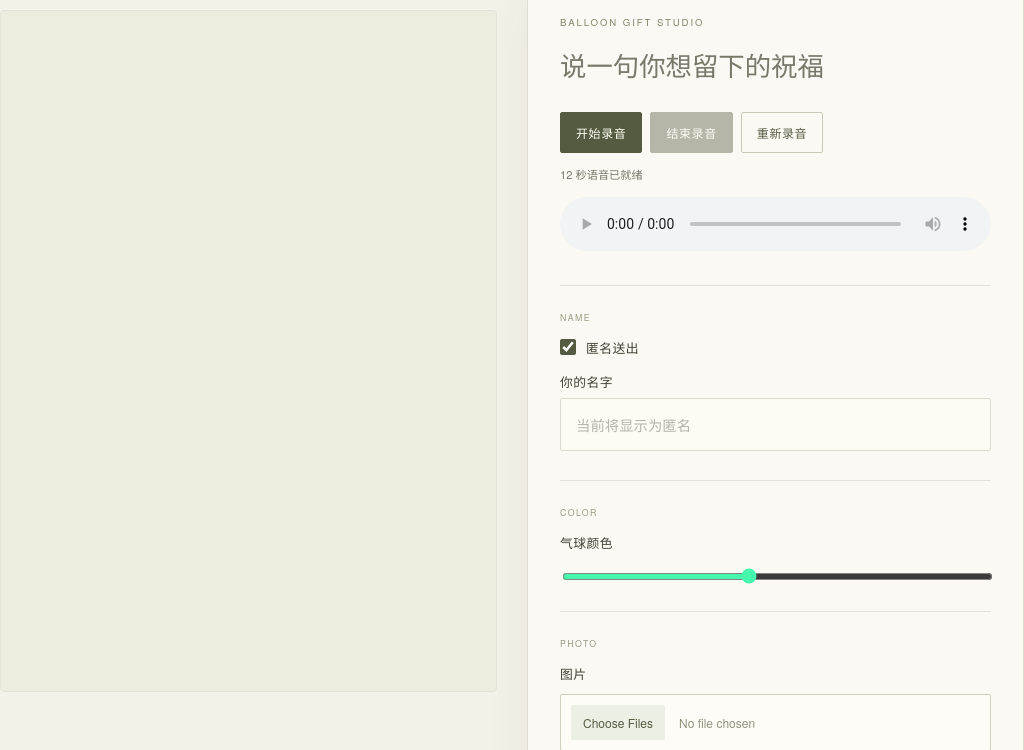
Scenario: GiverComposer › requires a name when anonymous delivery is turned off
This screenshot has width=1024, height=750.
What coordinates should you click on to do the following:
click the checkbox labelled "匿名送出"
I would click on:
 (568, 347)
Its box is x1=560 y1=339 x2=576 y2=355.
(page scrolled)
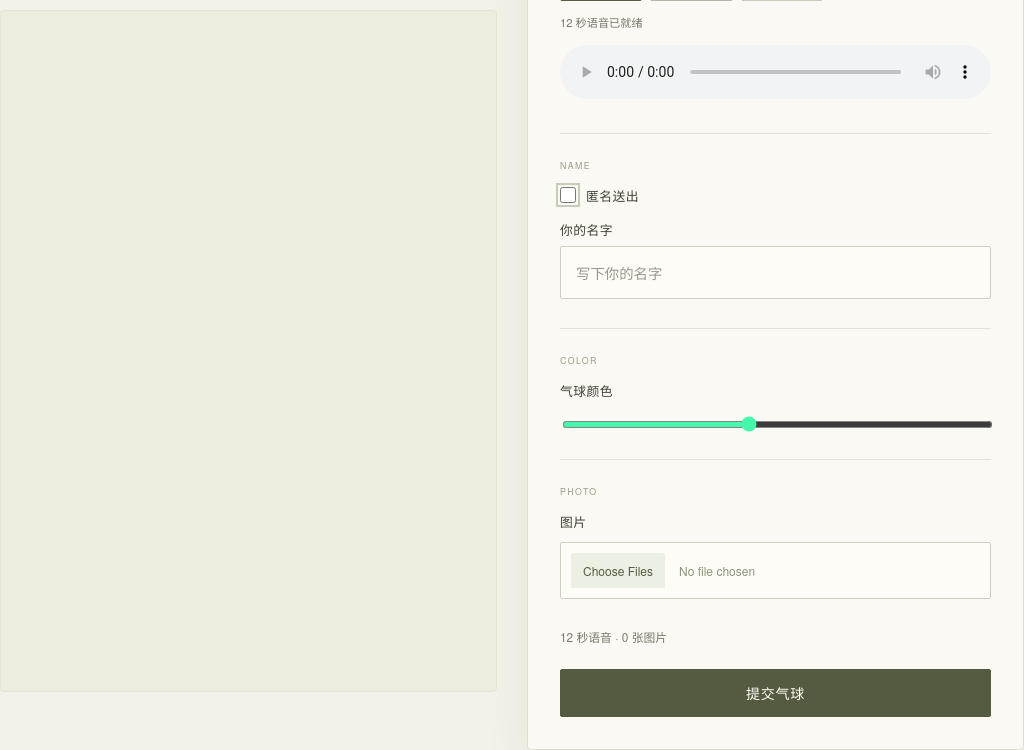
What coordinates should you click on to do the following:
click the button "提交气球"
I would click on:
 (776, 693)
Its box is x1=560 y1=669 x2=991 y2=717.
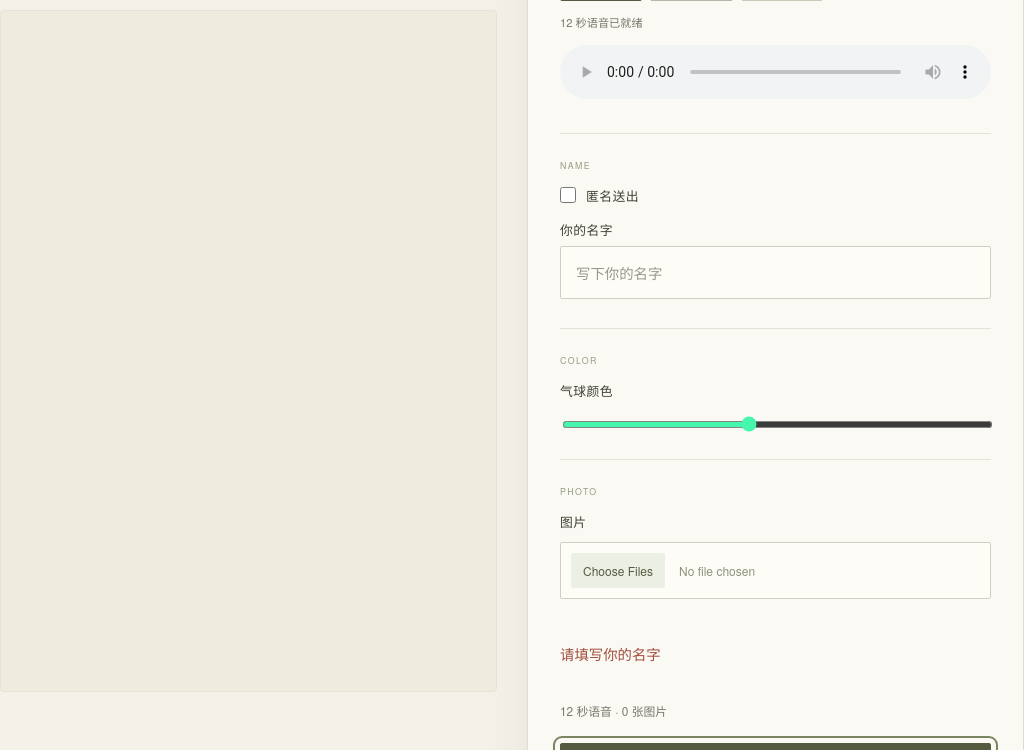
Result: the text "请填写你的名字" is shown at x1=560 y1=642 x2=661 y2=664
